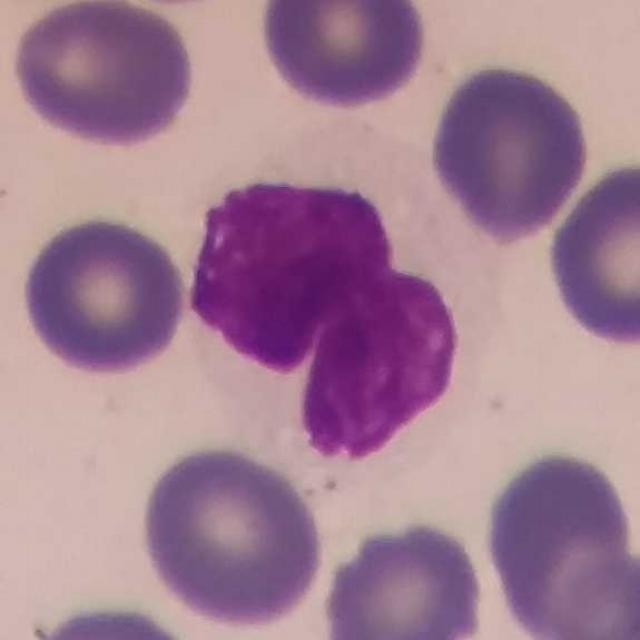Monocyte: (180, 123, 514, 480)
RBC: (134, 440, 330, 633), (423, 57, 595, 245), (478, 445, 639, 640), (15, 209, 192, 380), (5, 0, 201, 152), (315, 513, 491, 640), (253, 0, 434, 115), (541, 154, 640, 352), (544, 546, 639, 640), (18, 595, 212, 640)
